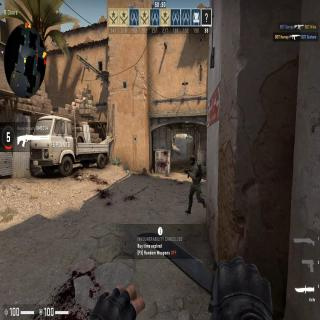CT-Body: (184, 154, 206, 216), (173, 135, 175, 146)
CT-Head: (189, 155, 197, 167), (174, 136, 175, 138)
